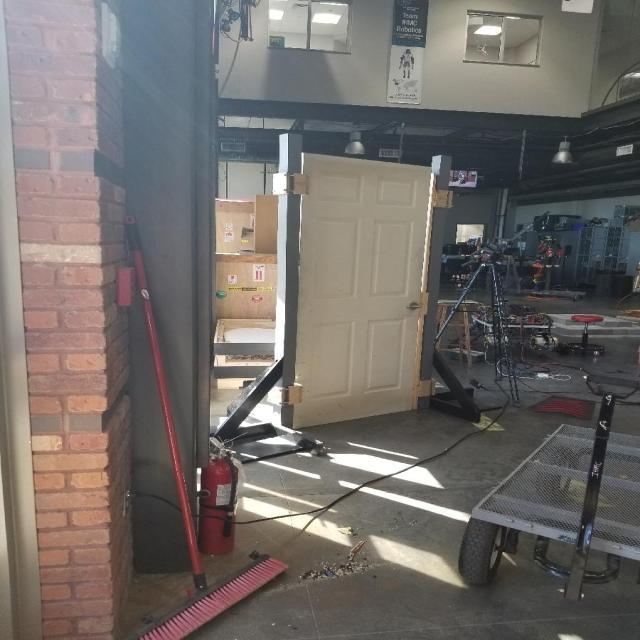door: (290, 150, 434, 429), (402, 298, 426, 314)
